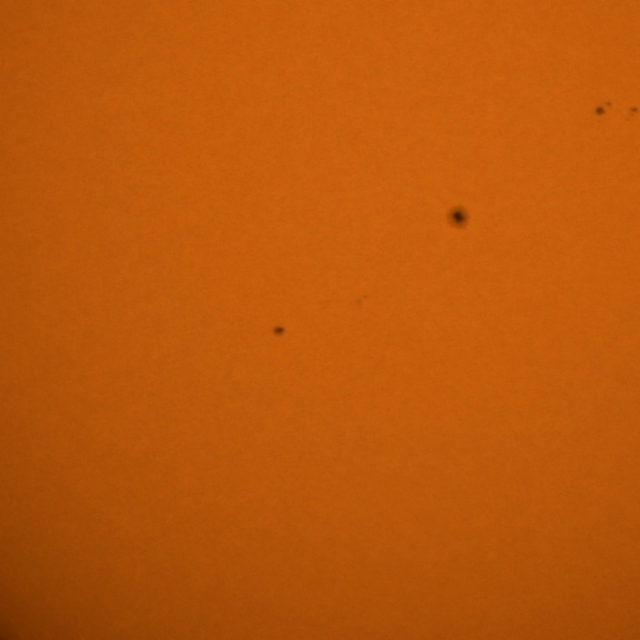sunspot: (592, 100, 640, 124), (447, 204, 471, 232), (594, 99, 613, 118), (626, 105, 640, 122), (271, 324, 286, 338)
